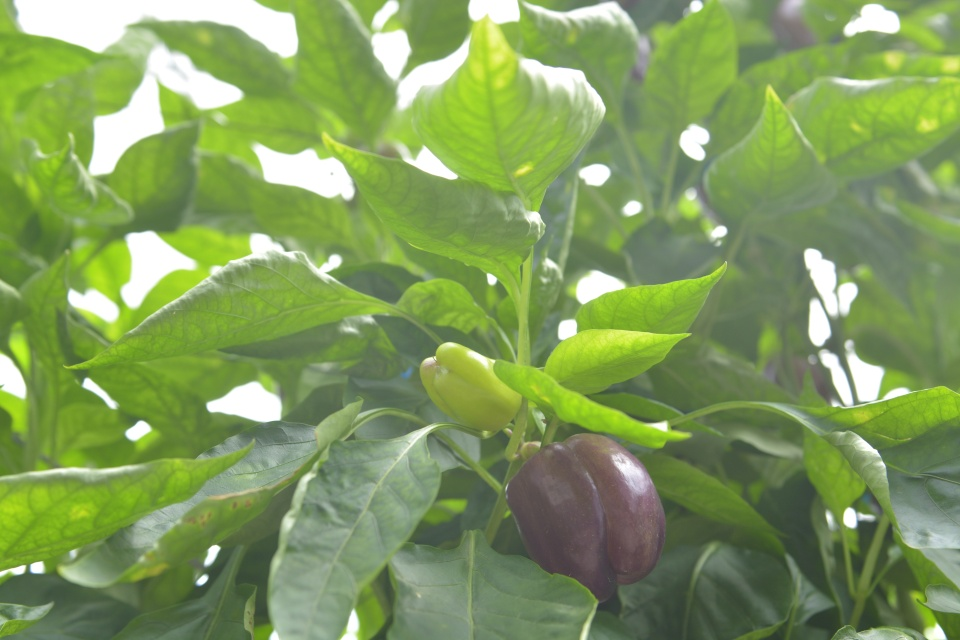fruit: (502, 435, 668, 606)
immature: (416, 339, 523, 433)
